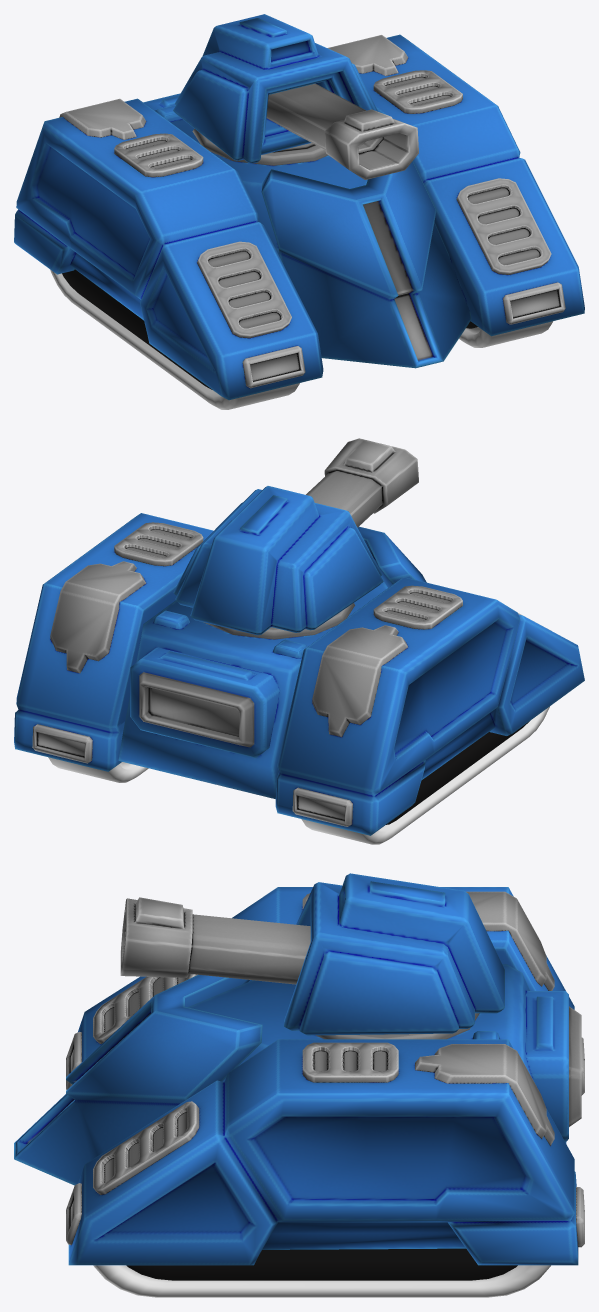
The model's file is smallTank_exp1.fbx.
3 views of the same model, one above another, from view 1: azimuth 30°, elevation 25°; view 2: azimuth 150°, elevation 25°; view 3: azimuth 270°, elevation 25° (orthographic). The views are drawn at different scales.
Visible parts, largest first — view 1: tank_small_body, tank_small_head, tank_small_gun, tank_small_wheels; view 2: tank_small_body, tank_small_head, tank_small_gun, tank_small_wheels; view 3: tank_small_body, tank_small_head, tank_small_gun, tank_small_wheels.
Part boxes in pixels (x1,y1,x2,y2): tank_small_body: (14, 34, 584, 400); tank_small_head: (173, 14, 377, 163); tank_small_gun: (266, 83, 418, 179); tank_small_wheels: (50, 269, 552, 409); tank_small_body: (14, 513, 584, 835); tank_small_head: (173, 486, 383, 635); tank_small_gun: (306, 438, 418, 527); tank_small_wheels: (48, 706, 549, 844); tank_small_body: (14, 887, 584, 1280); tank_small_head: (284, 873, 504, 1035); tank_small_gun: (120, 897, 310, 984); tank_small_wheels: (93, 1265, 550, 1297).
Bounding box in the file's own units: 144 × 102 × 164.
